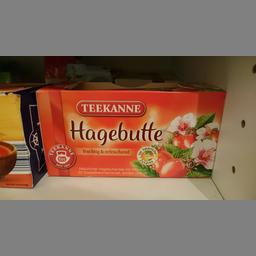tea: (32, 79, 225, 178)
